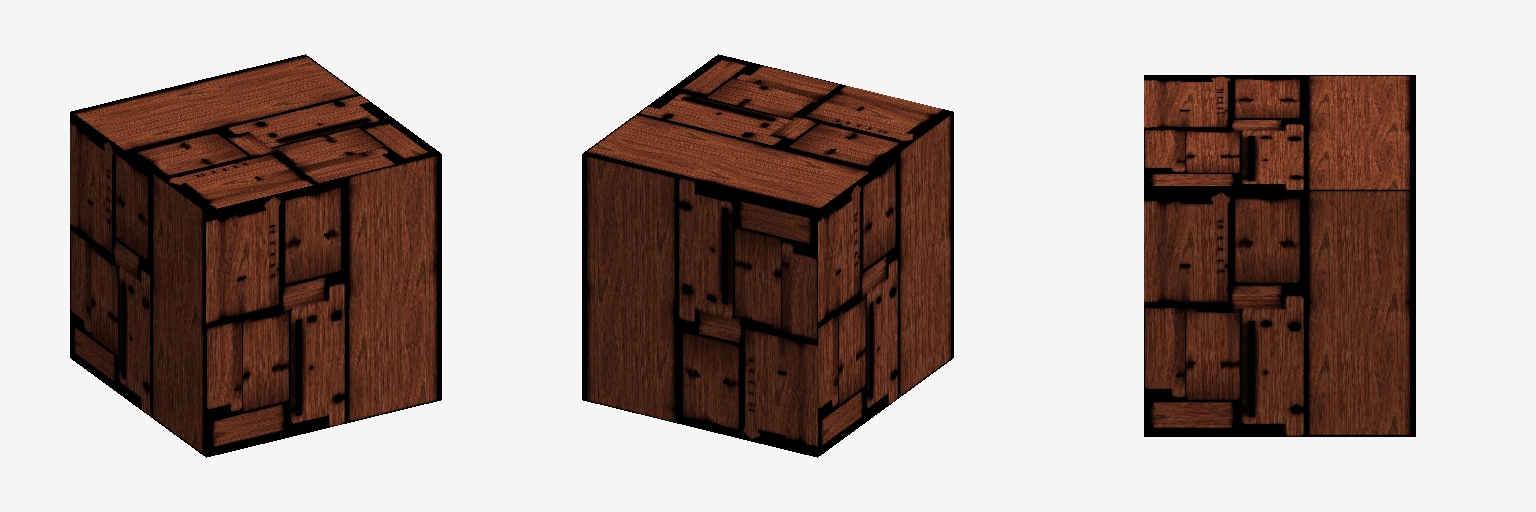
The picture shows the model from 3 angles: view 1: azimuth 30°, elevation 25°; view 2: azimuth 150°, elevation 25°; view 3: azimuth 270°, elevation 25°; orthographic projection.
Parts seen in each view (by area): view 1: Cube; view 2: Cube; view 3: Cube.
Part boxes in pixels (left/top/right/bottom): Cube: left=70, top=54, right=441, bottom=457; Cube: left=582, top=54, right=953, bottom=457; Cube: left=1144, top=75, right=1415, bottom=436.
Size of the model in its own units: 2 by 2 by 2.
Materials: 1 (1 with a texture image).